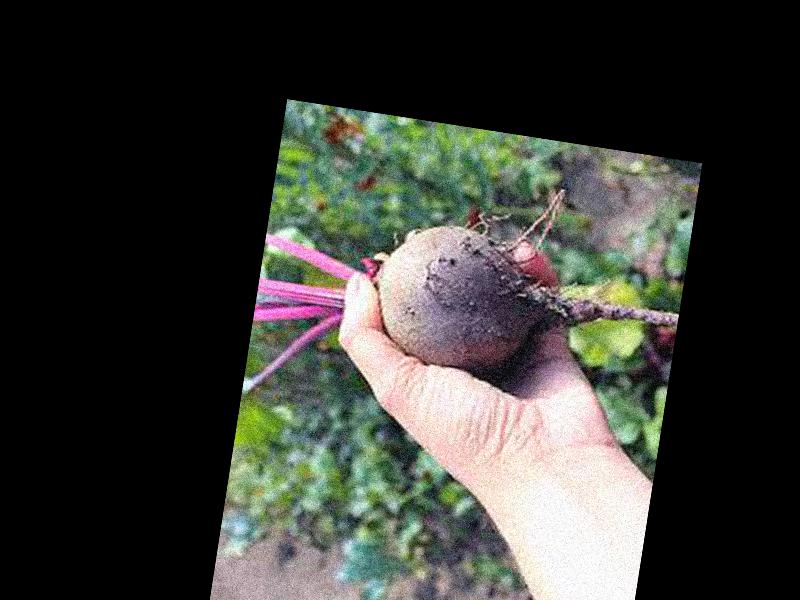Beet: (244, 143, 695, 458)
